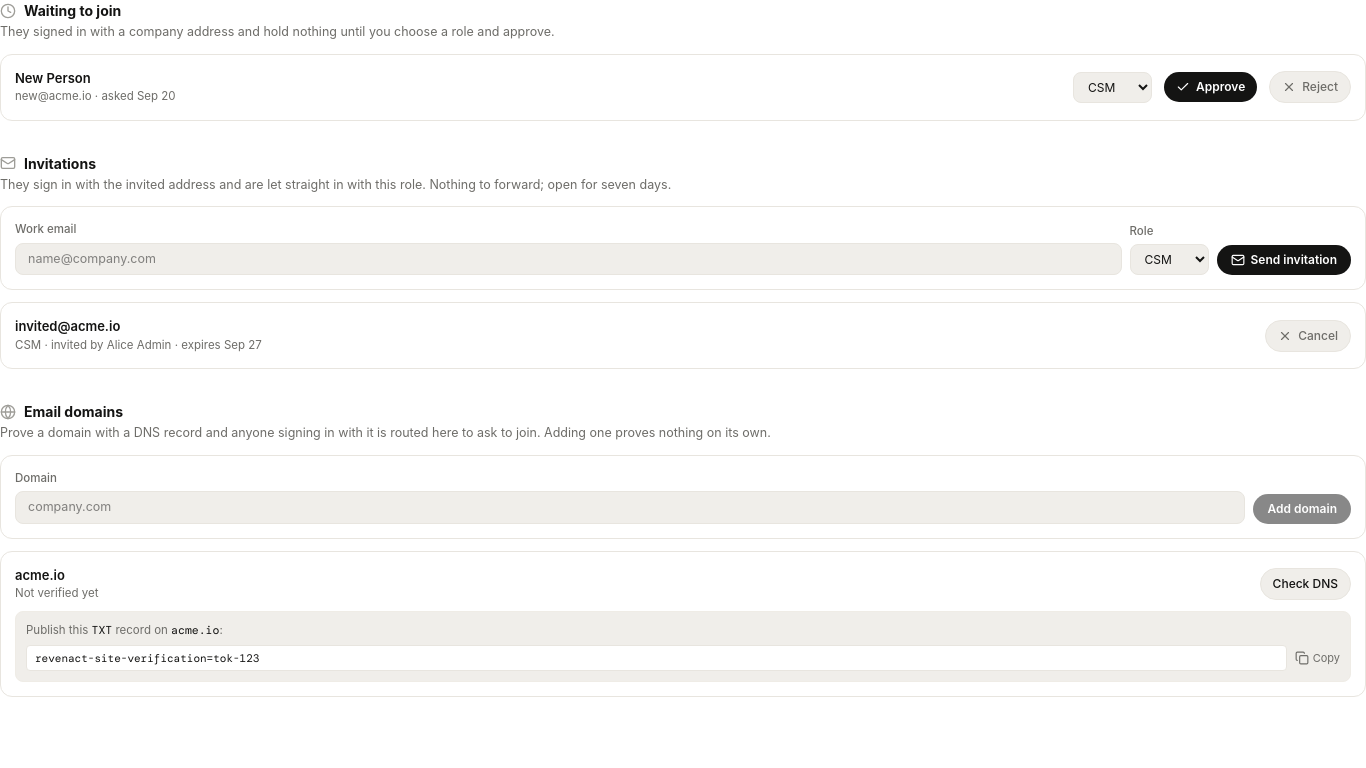
Test: Access tab › sends an invitation and shows it in the list
The width and height of the screenshot is (1366, 768).
Type "raj@acme.io" into the field labelled "Work email" at (568, 259), box x1=15 y1=242 x2=1122 y2=275
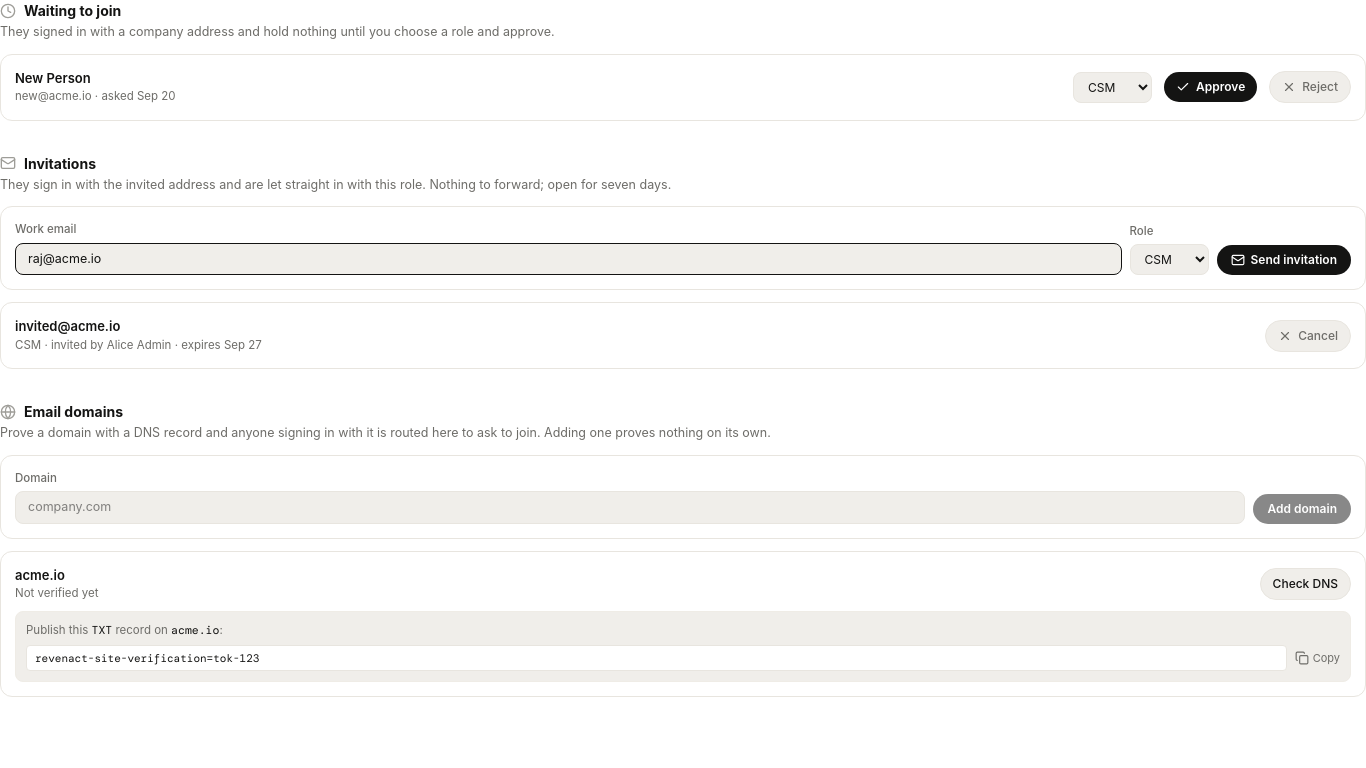
Click the button "Send invitation" at (1284, 260), box x1=1217 y1=245 x2=1351 y2=275
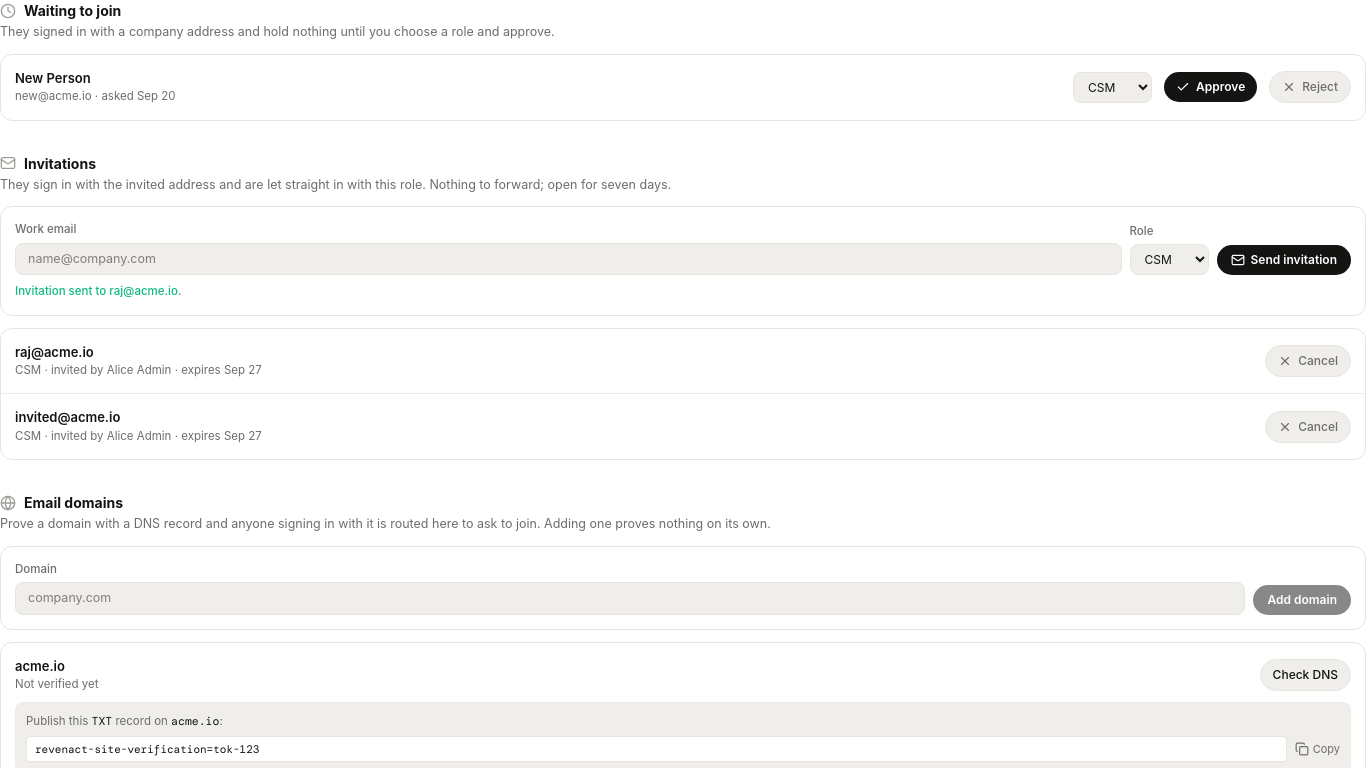
expect the text "Invitation sent to raj@acme.io." is shown: met, box x1=15 y1=284 x2=181 y2=298
expect the text "raj@acme.io" is shown: met, box x1=15 y1=344 x2=94 y2=360
